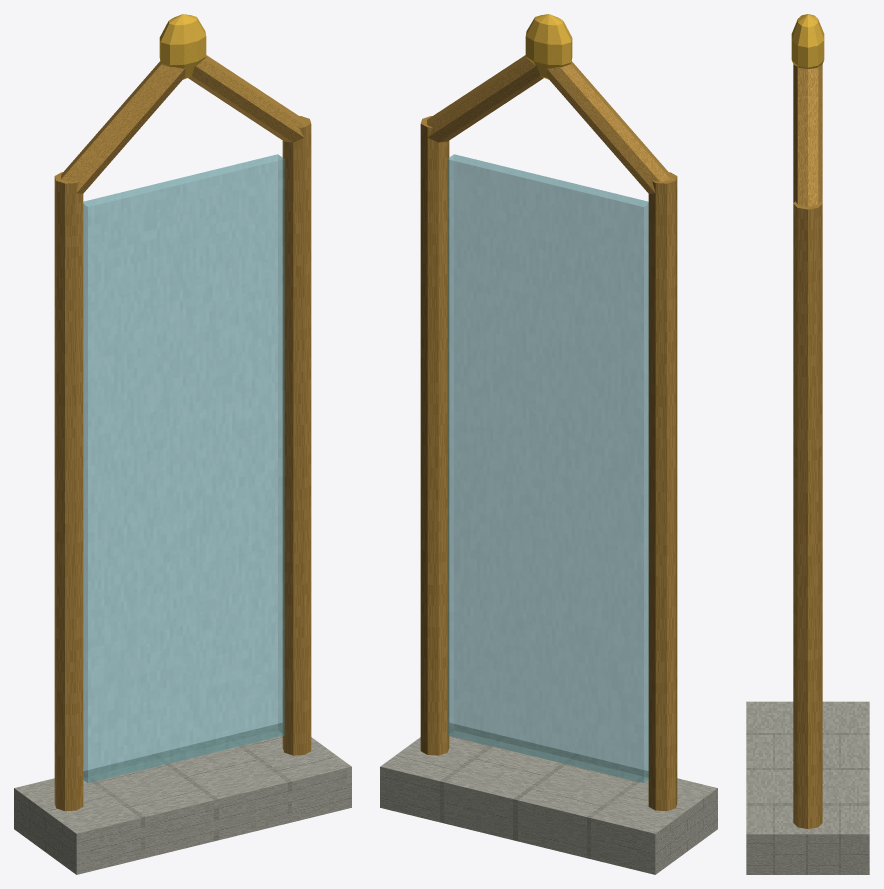
Rendered from mirror.glb.
The picture shows the model from 3 angles, left to right: view 1: azimuth 30°, elevation 25°; view 2: azimuth 150°, elevation 25°; view 3: azimuth 270°, elevation 25°; orthographic projection.
Visible parts, largest first — view 1: glass, frame (×2), base, spire (×2), crest; view 2: glass, frame (×2), base, spire (×2), crest; view 3: frame, base, spire, crest.
Part boxes in pixels (left/top/right/bottom): glass: left=83, top=154, right=284, bottom=782; frame (×2): left=54, top=116, right=311, bottom=811; base: left=14, top=723, right=351, bottom=874; spire (×2): left=60, top=55, right=304, bottom=193; crest: left=159, top=14, right=206, bottom=79; glass: left=447, top=154, right=648, bottom=782; frame (×2): left=420, top=116, right=677, bottom=811; base: left=380, top=723, right=717, bottom=874; spire (×2): left=427, top=55, right=671, bottom=193; crest: left=525, top=14, right=572, bottom=79; frame: left=793, top=201, right=822, bottom=828; base: left=746, top=701, right=869, bottom=874; spire: left=793, top=65, right=822, bottom=207; crest: left=791, top=14, right=824, bottom=68.
Size of the model in its own units: 1.4 by 3.91 by 0.55.
2 materials, 2 textured.
